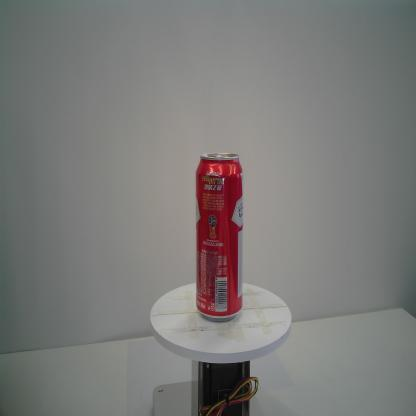Alcohol: (194, 151, 246, 323)
